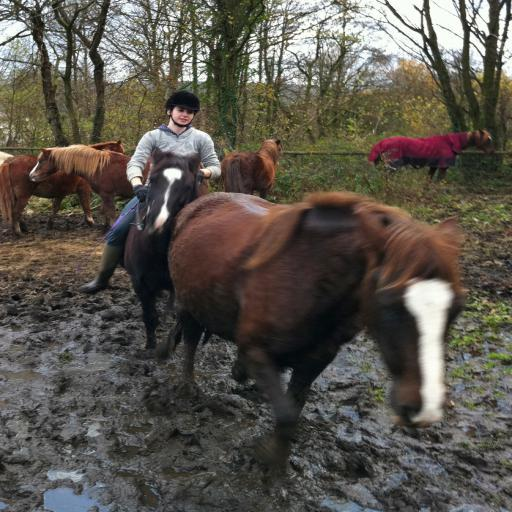Horse: (152, 190, 472, 473), (0, 139, 125, 238), (28, 144, 154, 230), (367, 126, 496, 186), (220, 138, 284, 200)
